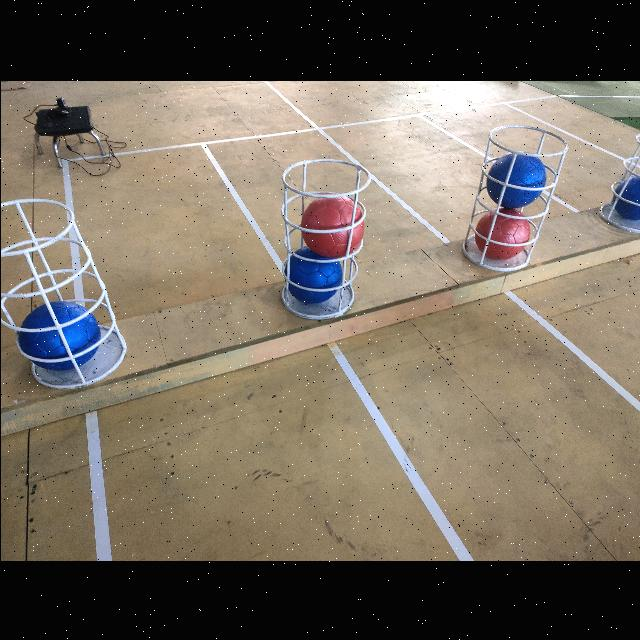B: (16, 300, 98, 368), (486, 151, 544, 209), (284, 246, 340, 304), (610, 172, 640, 220)
R: (300, 194, 364, 256), (474, 206, 528, 258)
